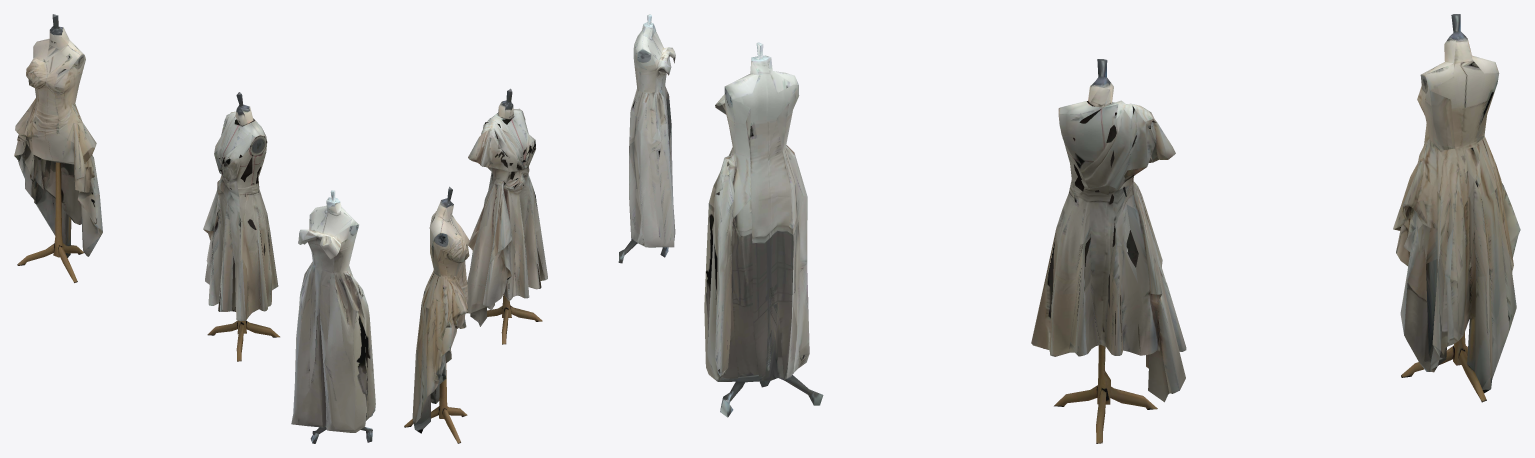
Rendered from Dress_LOD4.glb.
3 renders of one model, left to right at view 1: azimuth 30°, elevation 25°; view 2: azimuth 150°, elevation 25°; view 3: azimuth 270°, elevation 25°, orthographic. The views are drawn at different scales.
Visible parts, largest first — view 1: Dress_LOD4; view 2: Dress_LOD4; view 3: Dress_LOD4.
Part boxes in pixels (left/top/right/bottom): Dress_LOD4: left=14, top=14, right=375, bottom=443; Dress_LOD4: left=404, top=14, right=675, bottom=443; Dress_LOD4: left=704, top=14, right=1520, bottom=443.
Size of the model in its own units: 1.05 by 2.01 by 4.06.
1 material, 1 textured.
